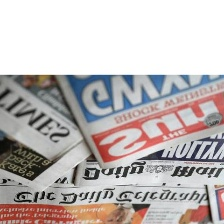news_paper: (49, 73, 224, 172), (0, 164, 212, 223), (0, 72, 97, 194), (72, 132, 223, 190)
